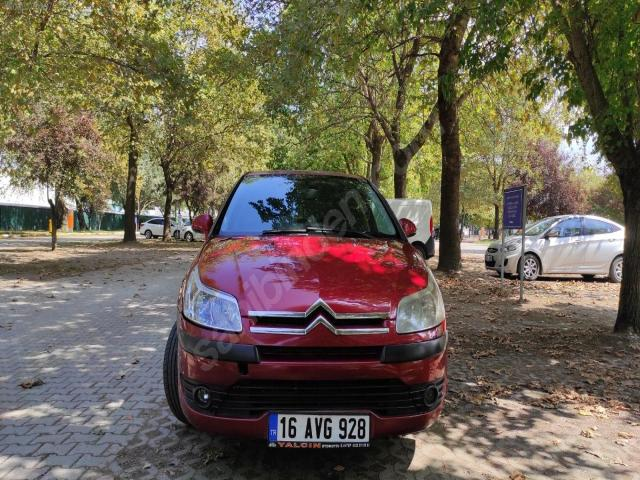plaka: (268, 413, 370, 447)
